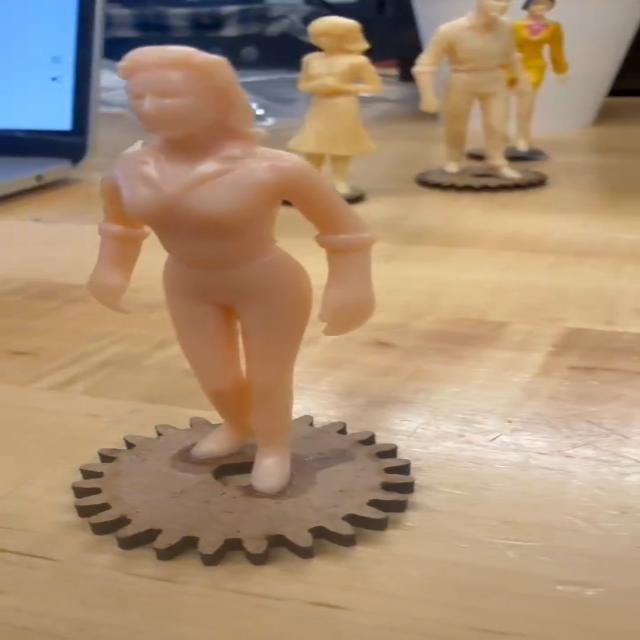Unauthorized: (96, 48, 399, 576)
